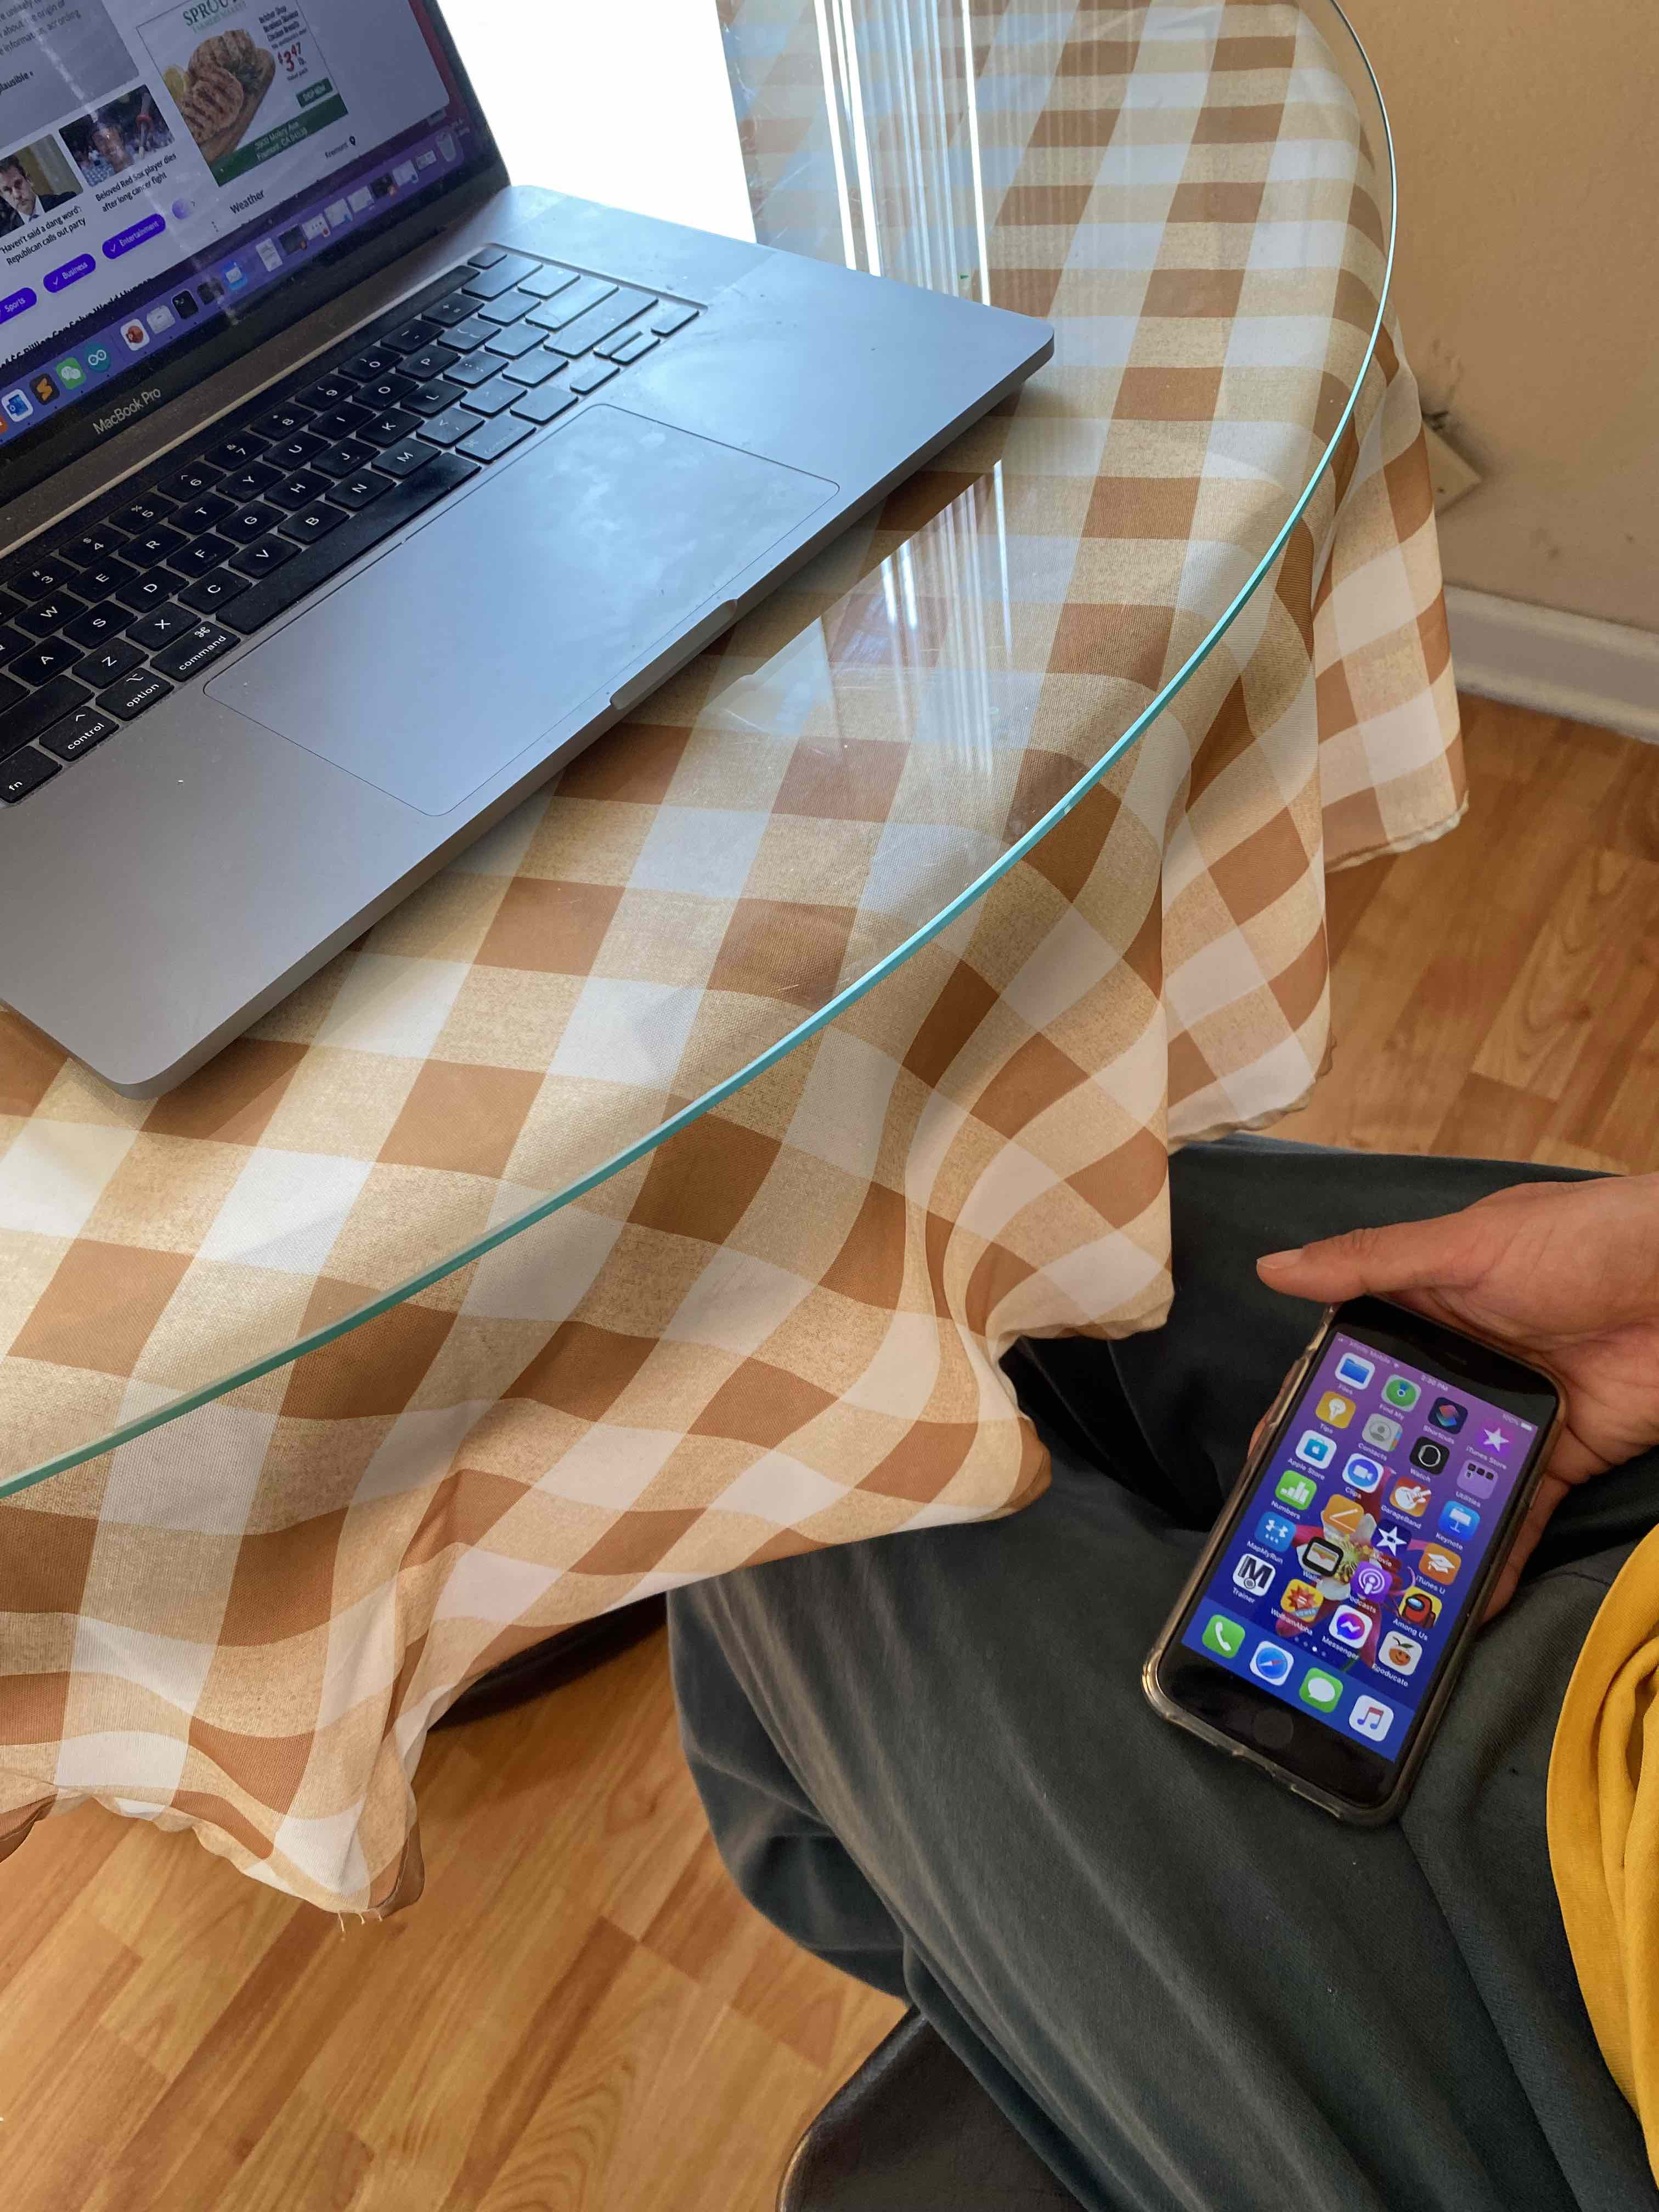Cell Phone: (1126, 1287, 1565, 1825)
